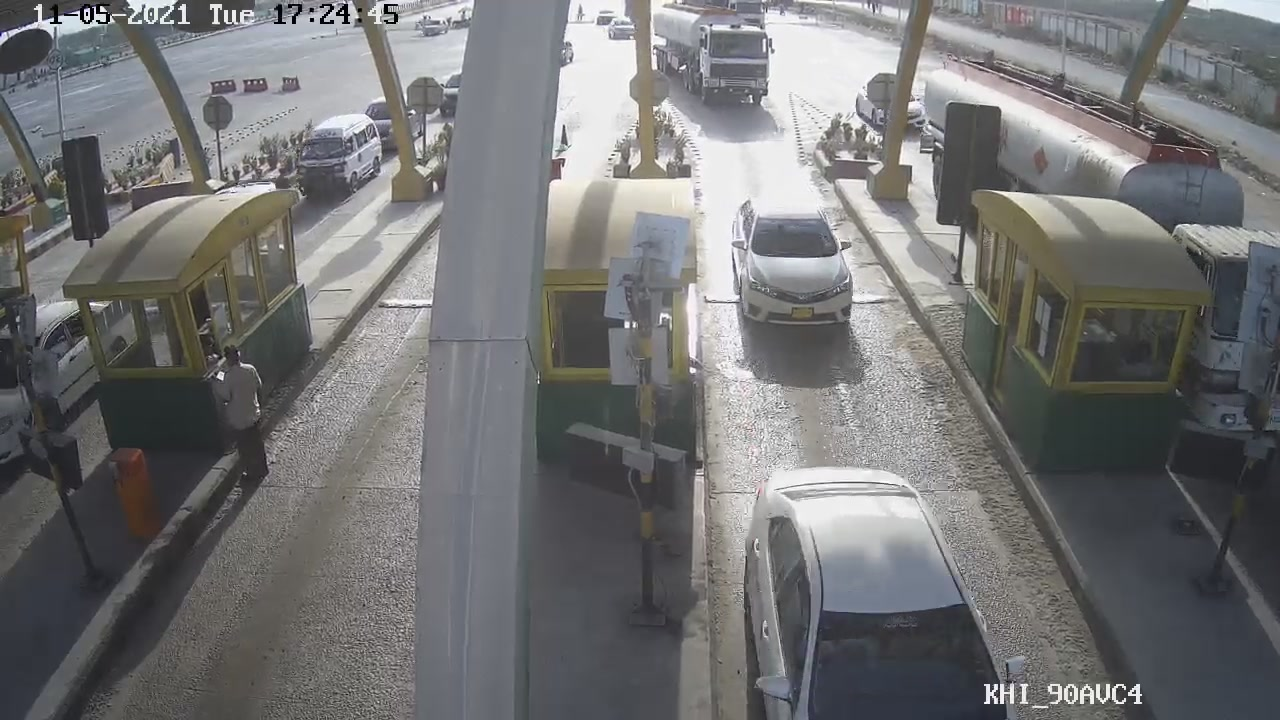F1: (720, 180, 872, 335)
